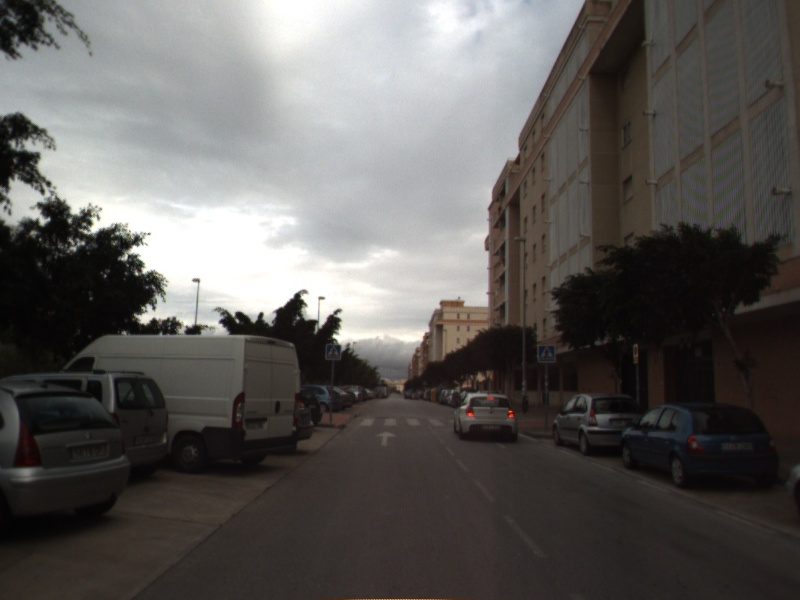STRAIGHT: (374, 429, 400, 448)
